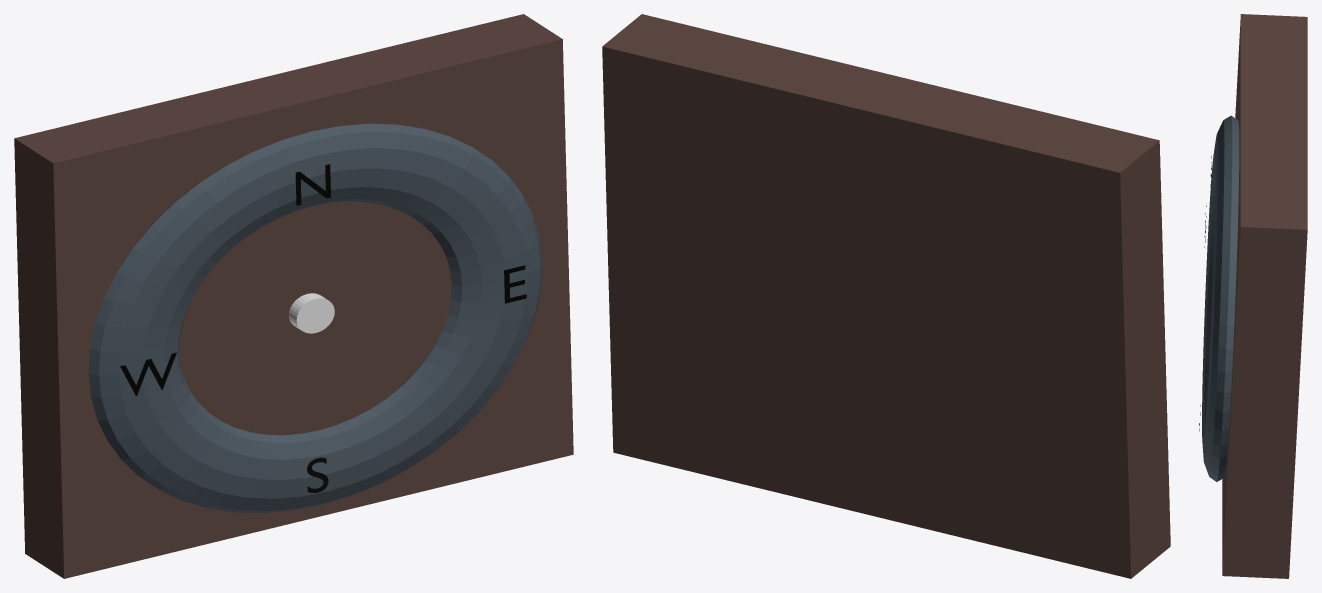
The model's file is compass.glb.
3 renders of one model, left to right at view 1: azimuth 30°, elevation 25°; view 2: azimuth 150°, elevation 25°; view 3: azimuth 270°, elevation 25°, orthographic. The views are drawn at different scales.
Parts seen in each view (by area): view 1: Cube, Torus, Cylinder; view 2: Cube; view 3: Cube, Torus.
Part boxes in pixels (<box>): Cube: <box>14,14,573,578</box>; Torus: <box>88,123,542,513</box>; Cylinder: <box>289,293,334,333</box>; Cube: <box>602,14,1170,578</box>; Cube: <box>1222,14,1307,578</box>; Torus: <box>1202,115,1239,481</box>.
Bounding box in the file's own units: 24.89 × 19.18 × 5.35.
